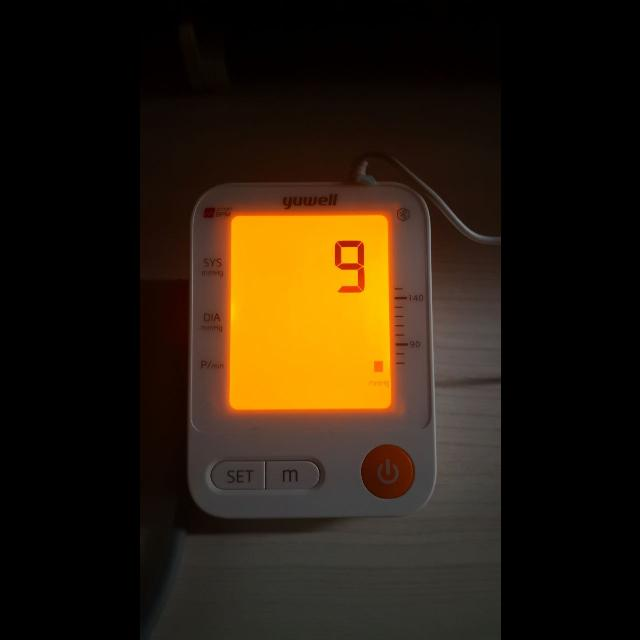Blood-Pressure-Monitor: (186, 182, 438, 520)
